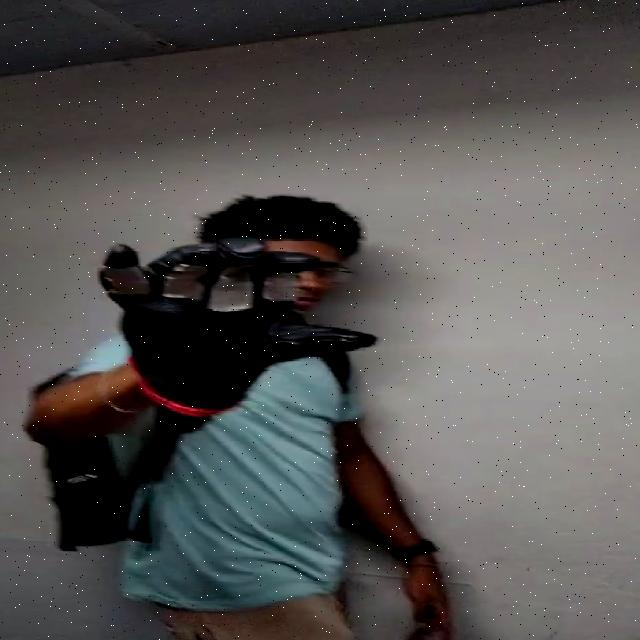Gloves: (82, 234, 366, 407)
